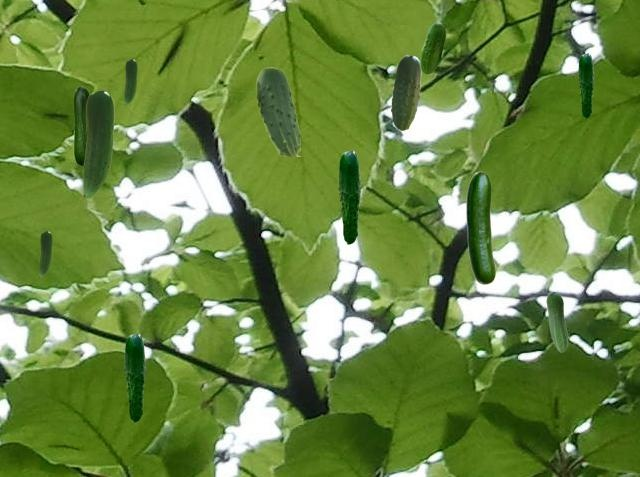cucumber: (256, 67, 299, 155), (83, 90, 113, 197), (466, 171, 494, 283), (391, 55, 420, 129), (338, 150, 360, 243), (124, 333, 145, 421), (73, 86, 89, 165), (546, 291, 567, 351), (420, 23, 444, 73), (578, 53, 593, 117), (39, 231, 51, 276), (124, 59, 136, 104)
